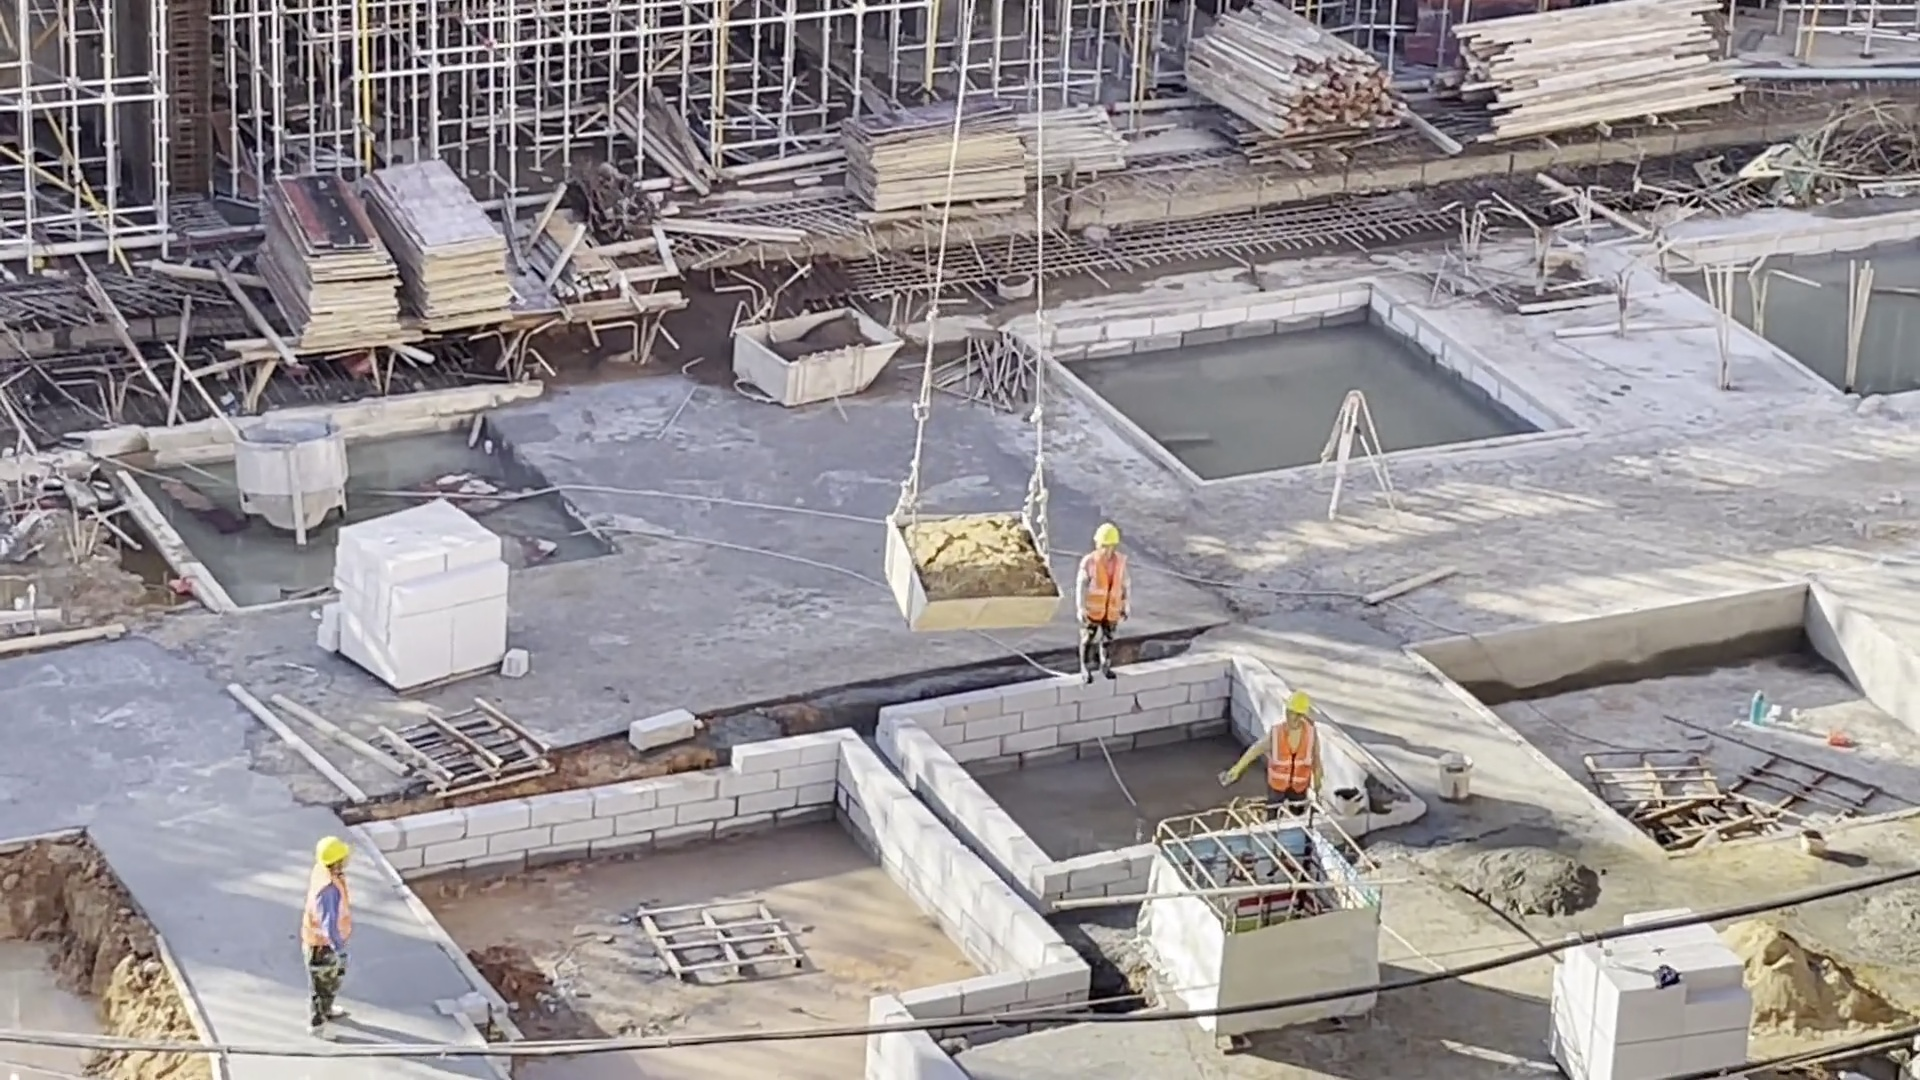board: (247, 171, 414, 356), (834, 90, 1034, 228), (375, 157, 519, 341)
brick: (320, 498, 523, 694), (1537, 961, 1765, 1067)
helmet: (312, 834, 348, 866), (1089, 521, 1124, 548), (1280, 688, 1312, 718)
hopper: (877, 495, 1063, 631), (725, 294, 907, 405), (230, 416, 348, 554)
person: (1216, 688, 1328, 810), (299, 831, 359, 1031), (1071, 523, 1134, 684)
vest: (303, 867, 355, 946), (1077, 549, 1125, 626), (1267, 718, 1315, 794)
wood: (1451, 2, 1751, 152), (1188, 1, 1406, 139)
